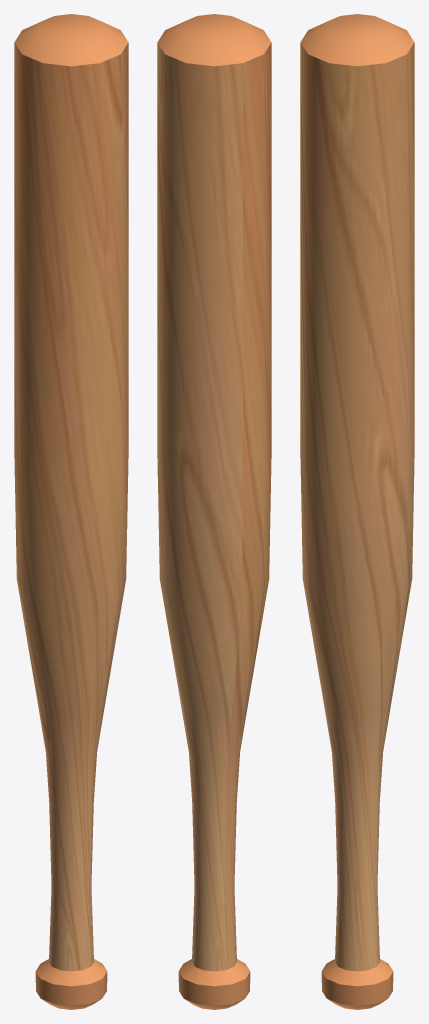
File: Baseball Bat.fbx
The picture shows the model from 3 angles, left to right: view 1: azimuth 90°, elevation 25°; view 2: azimuth 210°, elevation 25°; view 3: azimuth 270°, elevation 25°; orthographic projection.
Visible parts, largest first — view 1: BaseballBatV1; view 2: BaseballBatV1; view 3: BaseballBatV1.
Boxes of the visible parts, box(x1,y1,x2,y2) form: BaseballBatV1: box(14, 14, 128, 1009); BaseballBatV1: box(157, 14, 271, 1009); BaseballBatV1: box(300, 14, 414, 1009).
Bounding box in the file's own units: 6.51 × 61.2 × 6.51.
Materials: 1 (1 with a texture image).
